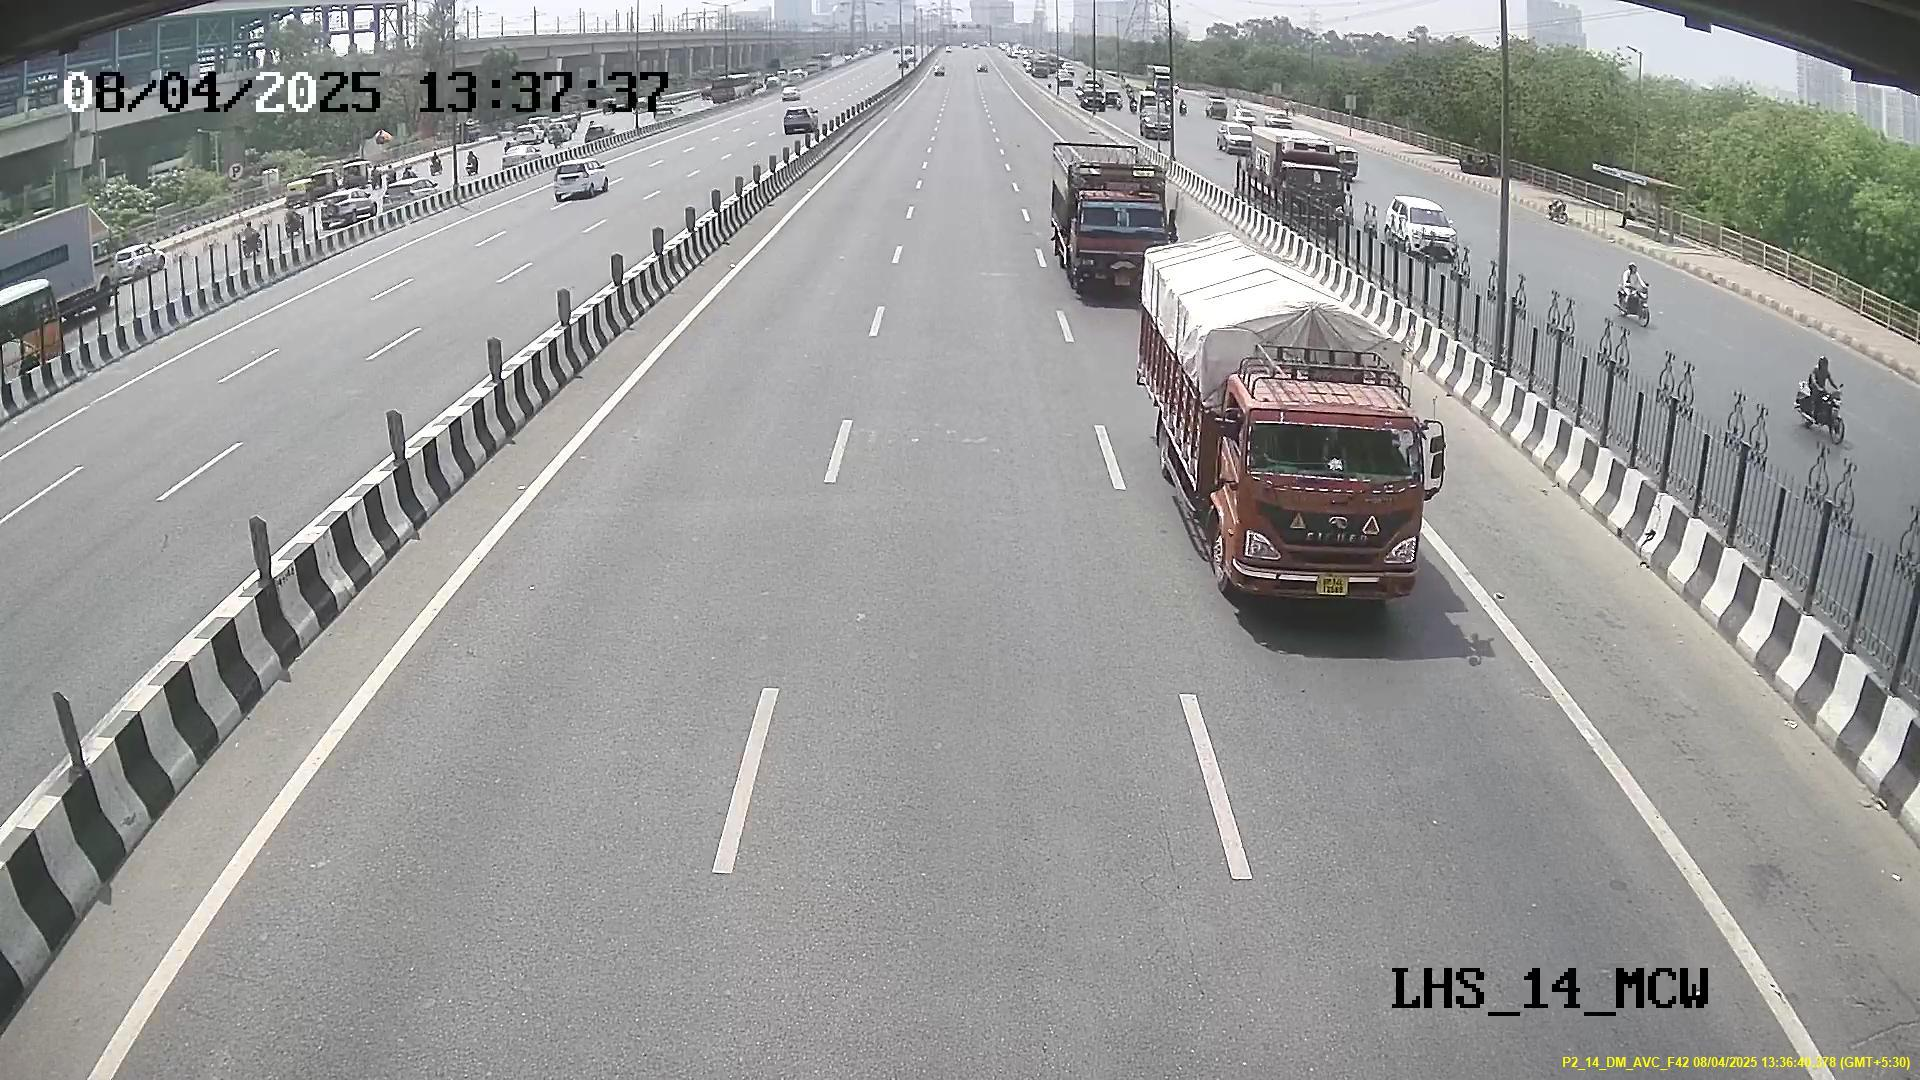lcv: (1215, 388, 1427, 607), (1065, 185, 1171, 294)
